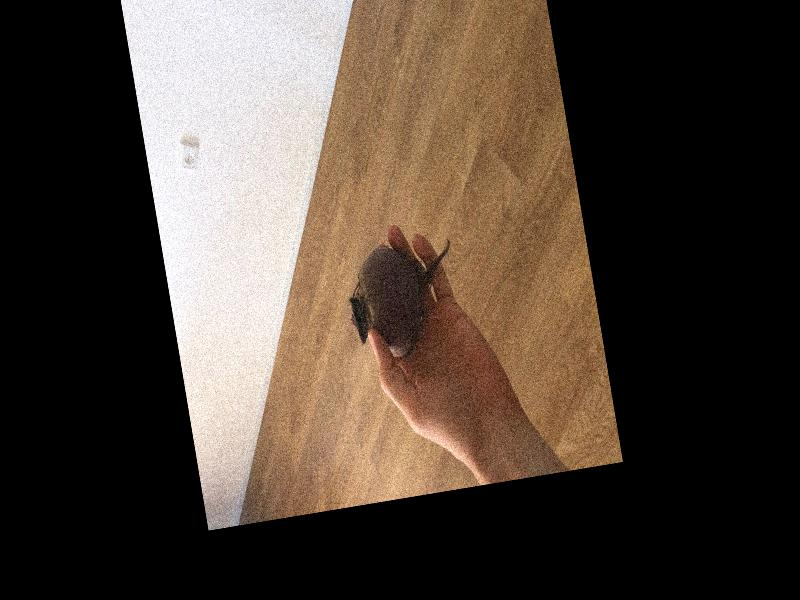Beet: (342, 233, 467, 363)
